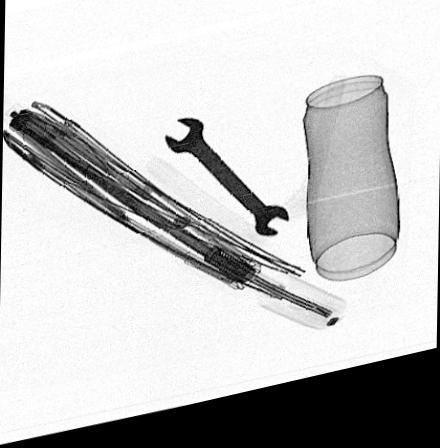Wrench: (164, 123, 290, 246)
